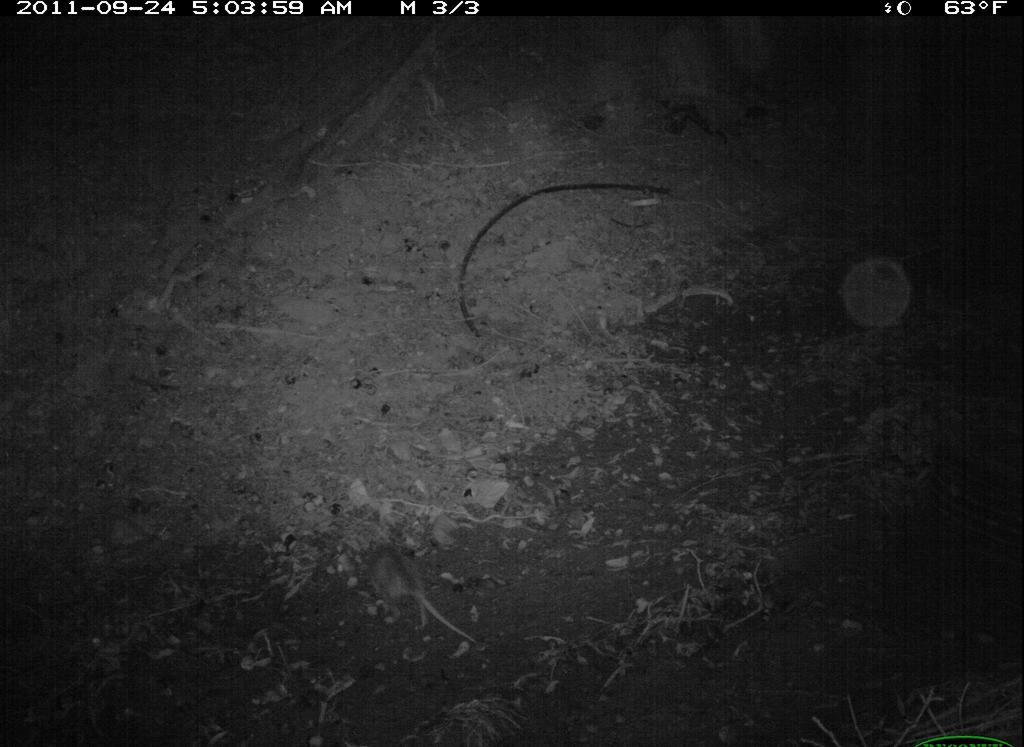opossum: (345, 539, 481, 647)
